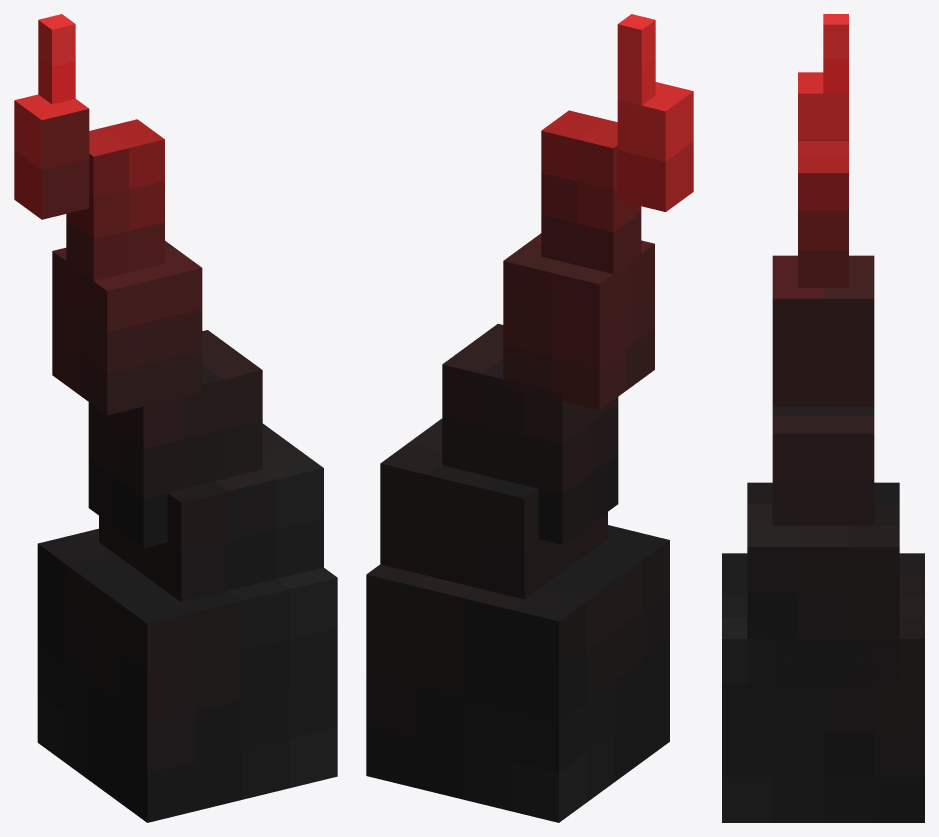
File: horns.fbx
3 renders of one model, left to right at view 1: azimuth 30°, elevation 25°; view 2: azimuth 150°, elevation 25°; view 3: azimuth 270°, elevation 25°, orthographic. The views are drawn at different scales.
Parts seen in each view (by area): view 1: Object_9, Object_13, Object_11, Object_15, Object_17, Object_19, Object_21; view 2: Object_9, Object_13, Object_11, Object_15, Object_17, Object_19, Object_21; view 3: Object_9, Object_11, Object_15, Object_13, Object_17, Object_19, Object_21.
Boxes of the visible parts, x1,y1,x2,y2 form: Object_9: (37, 528, 337, 822); Object_13: (88, 330, 262, 548); Object_11: (99, 423, 323, 602); Object_15: (52, 241, 202, 415); Object_17: (66, 119, 164, 280); Object_19: (14, 94, 89, 219); Object_21: (38, 14, 75, 104); Object_9: (366, 525, 669, 822); Object_13: (442, 324, 618, 544); Object_11: (380, 418, 607, 599); Object_15: (503, 233, 654, 410); Object_17: (541, 110, 641, 274); Object_19: (617, 82, 693, 212); Object_21: (617, 14, 655, 105); Object_9: (722, 553, 924, 822); Object_11: (747, 482, 899, 684); Object_15: (772, 255, 874, 406); Object_13: (772, 406, 874, 525); Object_17: (798, 141, 848, 287); Object_19: (798, 72, 848, 140); Object_21: (823, 14, 848, 93).
Size of the model in its own units: 16.73 by 47.92 by 12.5.
Materials: 1 (1 with a texture image).
